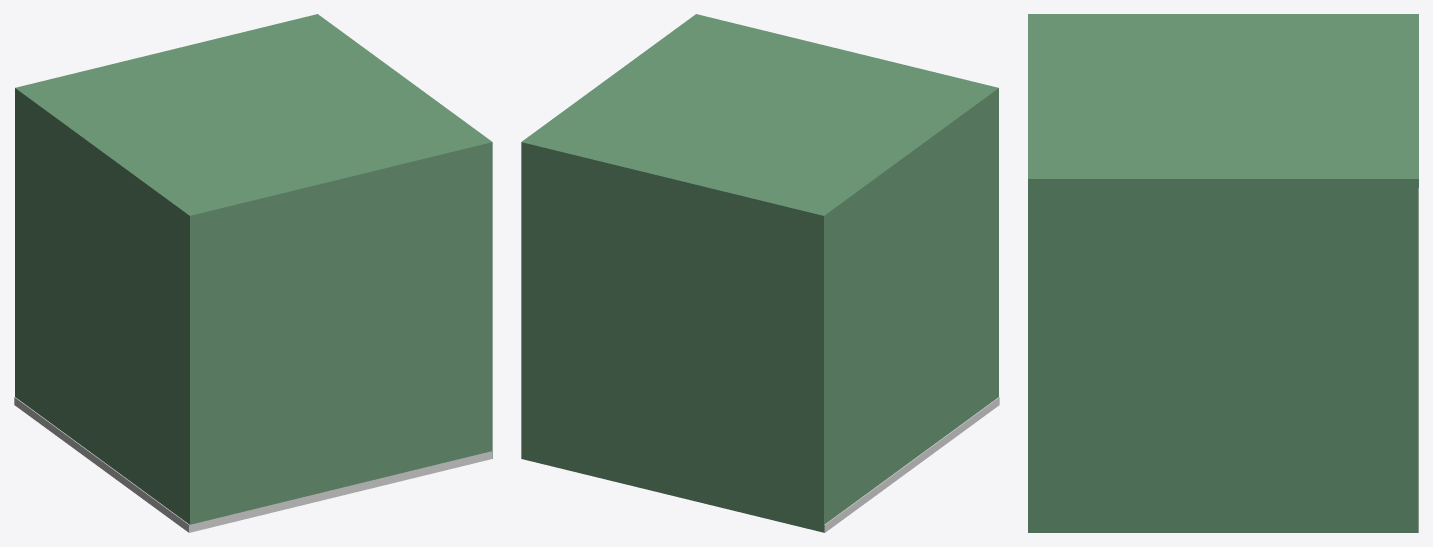
File: KAMAR MANDI RENOV V2.fbx
The picture shows the model from 3 angles, left to right: view 1: azimuth 30°, elevation 25°; view 2: azimuth 150°, elevation 25°; view 3: azimuth 270°, elevation 25°; orthographic projection. The views are drawn at different scales.
Visible parts, largest first — view 1: TUTUP.001, TUTUP, LANTAI; view 2: TUTUP.001, TUTUP, LANTAI; view 3: TUTUP.001, TUTUP.
Part boxes in pixels (x1,y1,x2,y2): TUTUP.001: [15, 14, 492, 524]; TUTUP: [15, 14, 491, 223]; LANTAI: [14, 397, 491, 532]; TUTUP.001: [521, 14, 998, 532]; TUTUP: [521, 14, 998, 223]; LANTAI: [824, 397, 999, 532]; TUTUP.001: [1028, 14, 1418, 532]; TUTUP: [1028, 14, 1418, 187].
Size of the model in its own units: 1341 by 1366 by 1339.
